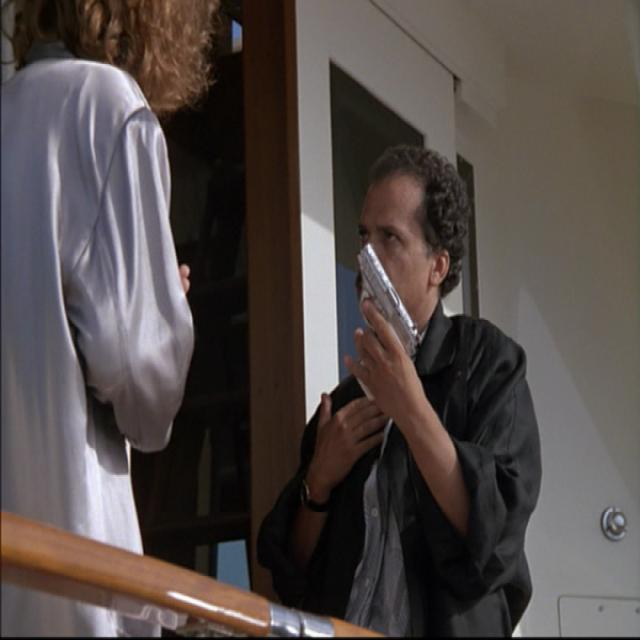weapons: (344, 231, 426, 413)
